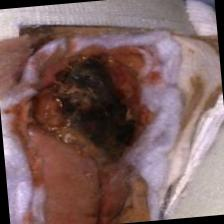orthopaedic-wounds: (28, 44, 154, 178)
